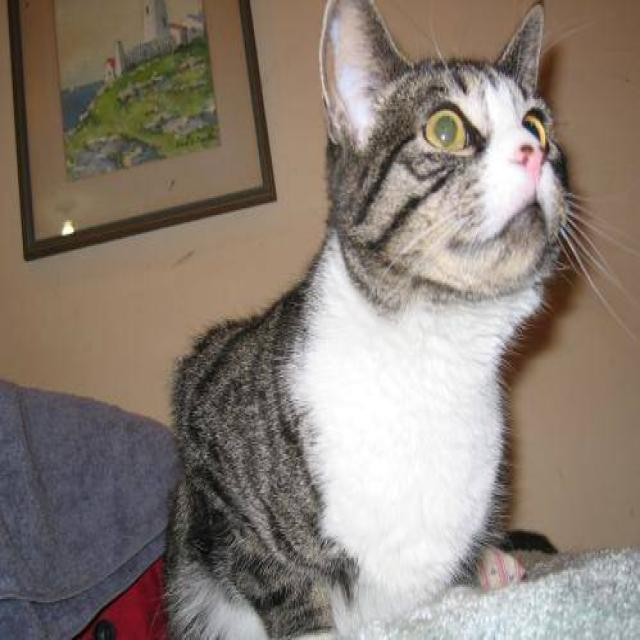cat: (156, 0, 638, 638)
